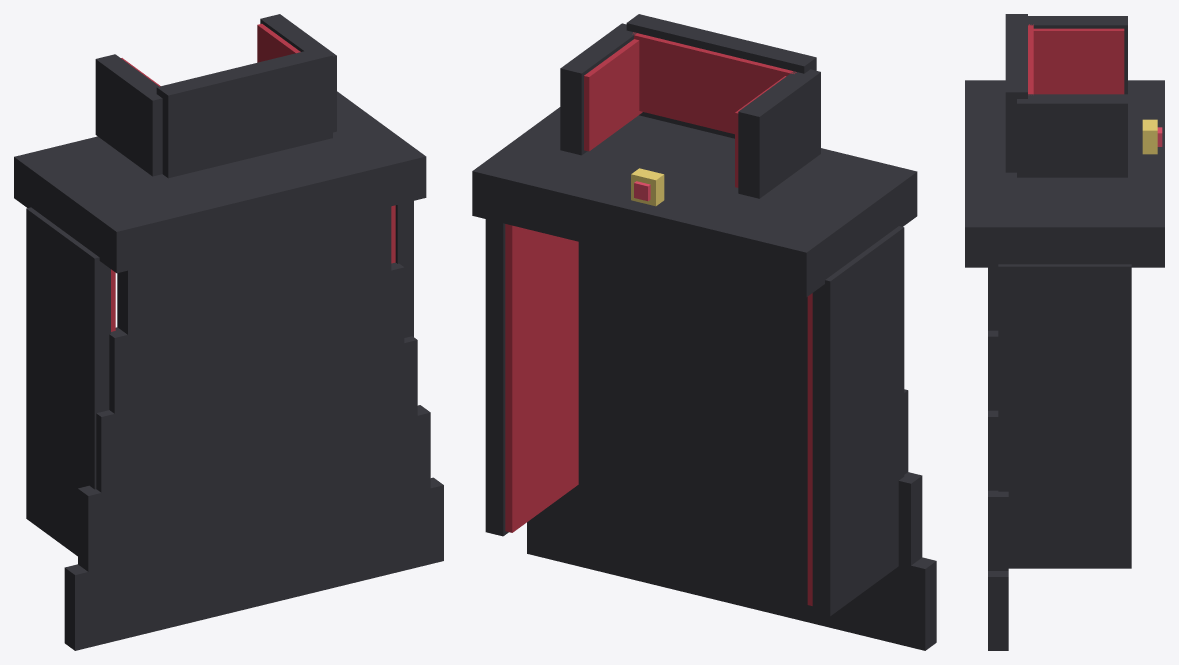
The model's file is capa_vampiro.glb.
3 views of the same model, side by side, from view 1: azimuth 30°, elevation 25°; view 2: azimuth 150°, elevation 25°; view 3: azimuth 270°, elevation 25° (orthographic). The views are drawn at different scales.
Parts seen in each view (by area): view 1: capa_vampiro; view 2: capa_vampiro; view 3: capa_vampiro.
Part boxes in pixels (x1,y1,x2,y2): capa_vampiro: [14, 14, 443, 650]; capa_vampiro: [472, 14, 936, 650]; capa_vampiro: [965, 14, 1164, 650].
Size of the model in its own units: 1.12 by 1.52 by 0.54.
